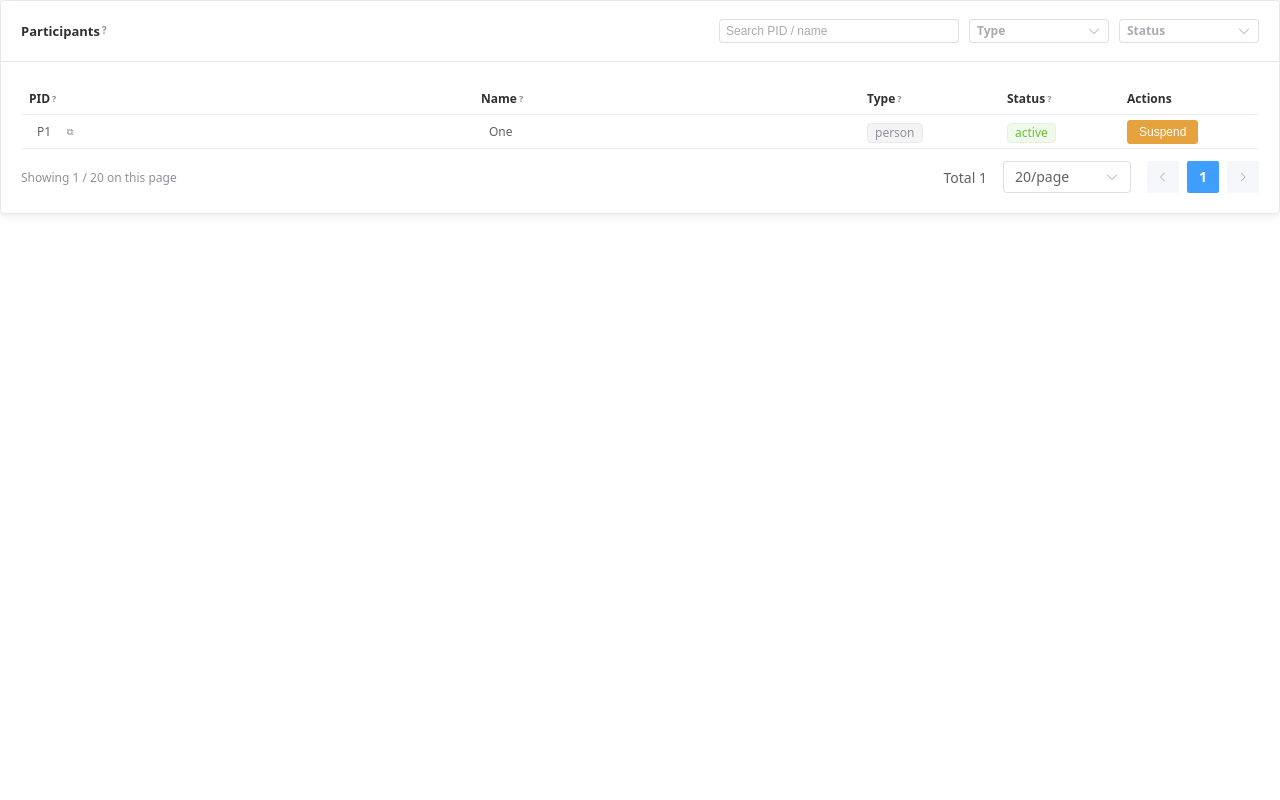
Test: timestamps › Participants: created at in the drawer
This screenshot has width=1280, height=800.
Click the row "P1 ⧉ One person active Suspend". click: (640, 132)
box: [21,115,1259,149]
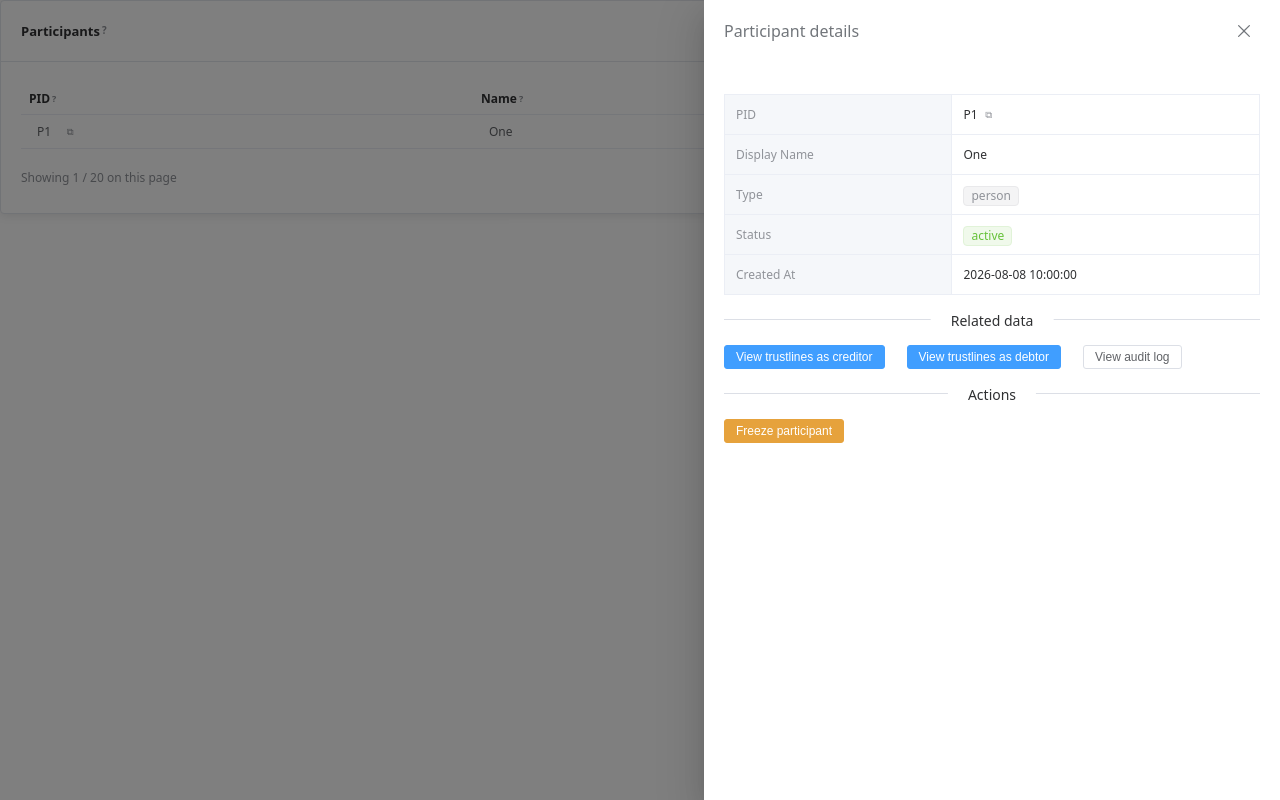
Now the dialog shows "2026-08-08 10:00:00", box [964,266,1077,283]
